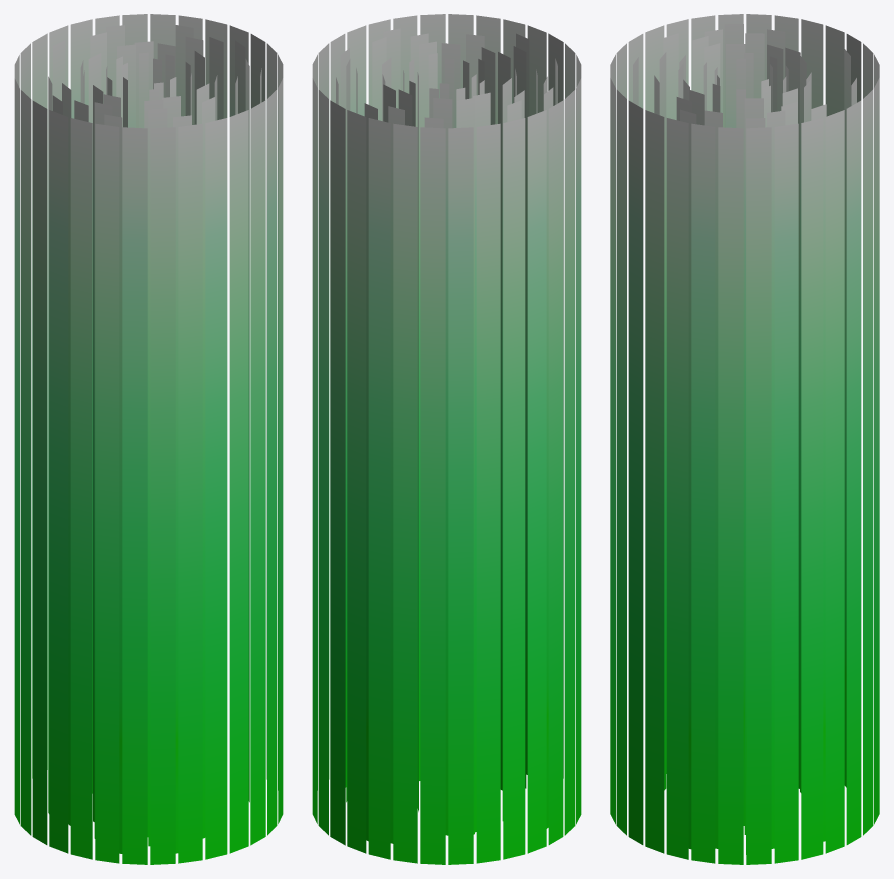
The model's file is brush_v2100_f1950_fix.fbx.
3 views of the same model, side by side, from view 1: azimuth 30°, elevation 25°; view 2: azimuth 150°, elevation 25°; view 3: azimuth 270°, elevation 25° (orthographic).
Visible parts, largest first — view 1: brush_v2100_f1950.001; view 2: brush_v2100_f1950.001; view 3: brush_v2100_f1950.001.
Part boxes in pixels (<box>): brush_v2100_f1950.001: <box>14,14,283,864</box>; brush_v2100_f1950.001: <box>312,14,581,864</box>; brush_v2100_f1950.001: <box>610,14,879,864</box>.
Size of the model in its own units: 200 by 600 by 199.
